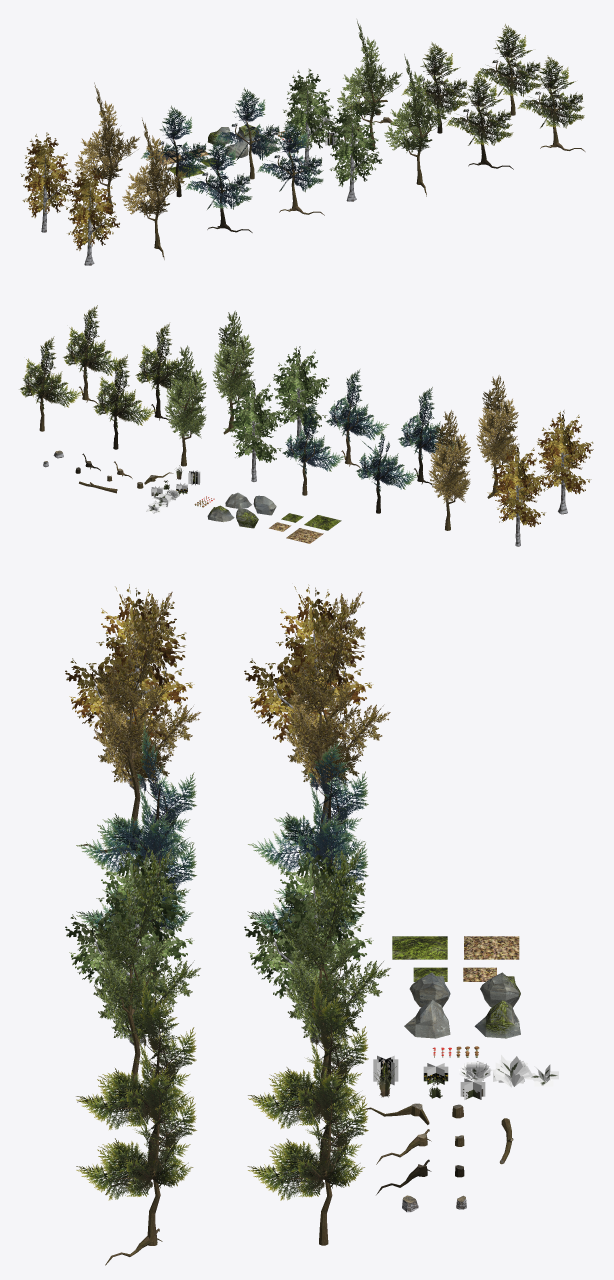
File: [PSX] Nature Pack.obj
The picture shows the model from 3 angles, top to bottom: view 1: azimuth 30°, elevation 25°; view 2: azimuth 150°, elevation 25°; view 3: azimuth 270°, elevation 25°; orthographic projection. The views are drawn at different scales.
Visible parts, largest first — view 1: Birch_Leaves.001, Birch_Leaves.003, Leaves.005, Birch_Leaves.002, Leaves.006, Leaves.007, Leaves.002, Birch_Leaves, Leaves.001, Leaves.004, Leaves.003, Leaves.008 (+4 smaller); view 2: Birch_Leaves, Birch_Leaves.002, Birch_Leaves.003, Leaves.002, Leaves.007, Birch_Leaves.001, Leaves.005, Leaves.006, Leaves.003, Leaves, Leaves.001, Leaves.010 (+8 smaller); view 3: Leaves.006, Leaves.007, Leaves.005, Leaves.002, Leaves.001, Leaves.003, Birch_Leaves, Birch_Leaves.003, Birch_Leaves.001, Birch_Leaves.002, Leaves, Leaves.004 (+10 smaller).
Boxes of the visible parts, left/top/right/bottom form: Birch_Leaves.001: left=327, top=101, right=382, bottom=186; Birch_Leaves.003: left=20, top=132, right=74, bottom=217; Leaves.005: left=384, top=54, right=449, bottom=153; Birch_Leaves.002: left=65, top=166, right=119, bottom=250; Leaves.006: left=122, top=118, right=187, bottom=217; Leaves.007: left=74, top=82, right=139, bottom=182; Leaves.002: left=337, top=20, right=402, bottom=119; Birch_Leaves: left=283, top=68, right=337, bottom=154; Leaves.001: left=517, top=55, right=584, bottom=128; Leaves.004: left=446, top=73, right=513, bottom=145; Leaves.003: left=475, top=24, right=542, bottom=96; Leaves.008: left=185, top=136, right=252, bottom=209; Birch_Leaves: left=223, top=379, right=284, bottom=462; Birch_Leaves.002: left=532, top=410, right=593, bottom=494; Birch_Leaves.003: left=487, top=443, right=548, bottom=527; Leaves.002: left=164, top=345, right=206, bottom=438; Leaves.007: left=429, top=410, right=470, bottom=503; Birch_Leaves.001: left=268, top=346, right=329, bottom=429; Leaves.005: left=212, top=310, right=254, bottom=403; Leaves.006: left=476, top=375, right=518, bottom=468; Leaves.003: left=19, top=336, right=82, bottom=410; Leaves: left=93, top=354, right=156, bottom=428; Leaves.001: left=63, top=305, right=126, bottom=378; Leaves.010: left=325, top=369, right=389, bottom=442; Leaves.006: left=89, top=591, right=201, bottom=787; Leaves.007: left=279, top=591, right=390, bottom=786; Leaves.005: left=89, top=847, right=200, bottom=1043; Leaves.002: left=279, top=847, right=390, bottom=1042; Leaves.001: left=76, top=1044, right=196, bottom=1200; Leaves.003: left=247, top=1045, right=368, bottom=1200; Birch_Leaves: left=244, top=840, right=373, bottom=1003; Birch_Leaves.003: left=244, top=584, right=373, bottom=747; Birch_Leaves.001: left=65, top=840, right=194, bottom=1002; Birch_Leaves.002: left=65, top=584, right=194, bottom=746; Leaves: left=248, top=973, right=368, bottom=1128; Leaves.004: left=76, top=974, right=196, bottom=1129.
Size of the model in its own units: 72.19 by 17.72 by 29.86.
